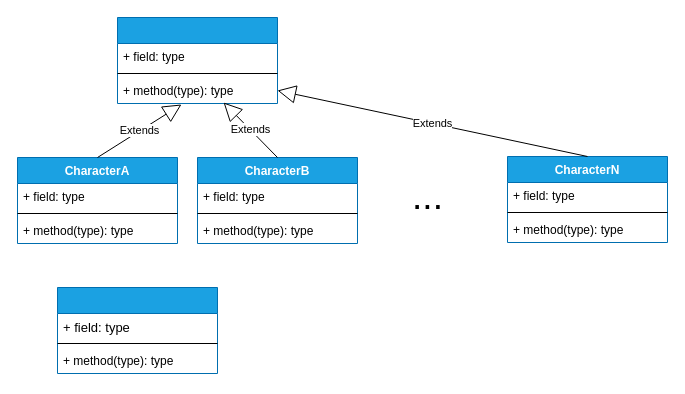
Image size: 685x394. Some labels were removed from this diagram. The shapes that lost their labels are listed below. From the top down, each one's box as (x1, y1, x2, y2) in pixels, then its label:
(116, 16, 278, 104): Character
(56, 286, 218, 374): CharacterFactory
